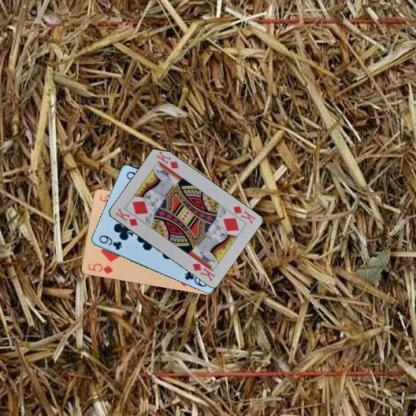5d: (85, 261, 114, 275)
9c: (96, 233, 123, 252)
Kd: (112, 205, 139, 228), (230, 204, 257, 226)
